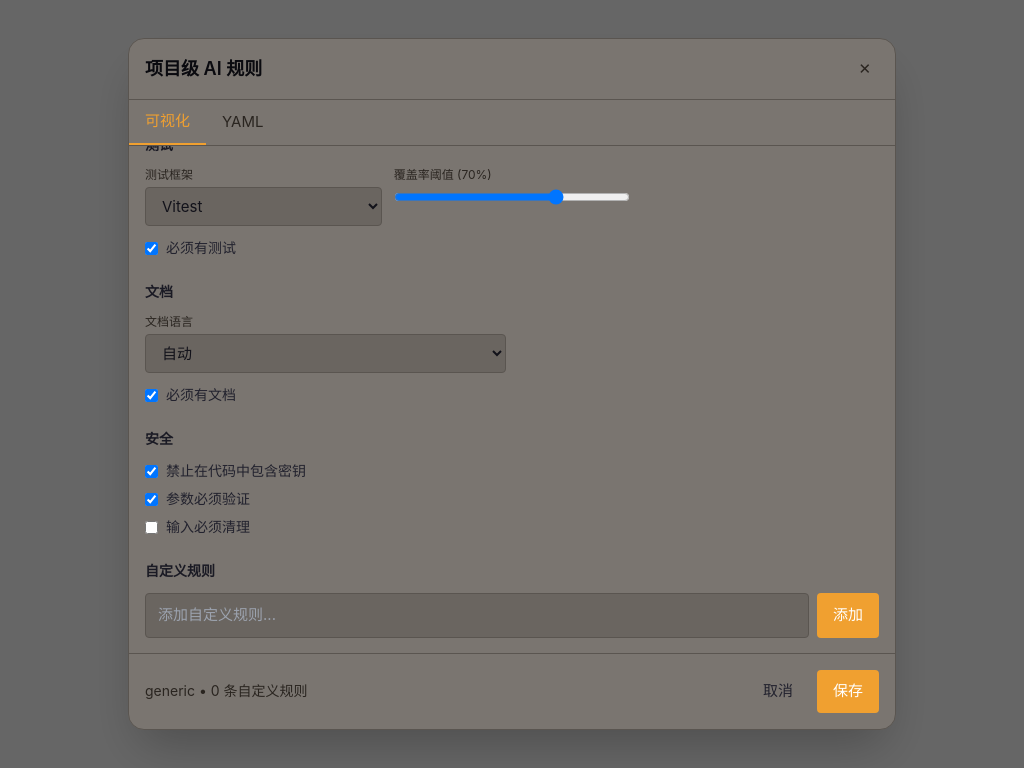
Test: RulesEditor 组件 (Cycle 18 G18-02) › 应该删除自定义规则
The image size is (1024, 768).
(page scrolled)
Type "to delete" into the field with test id "custom-rule-input" at (477, 616), box [145, 593, 809, 638]
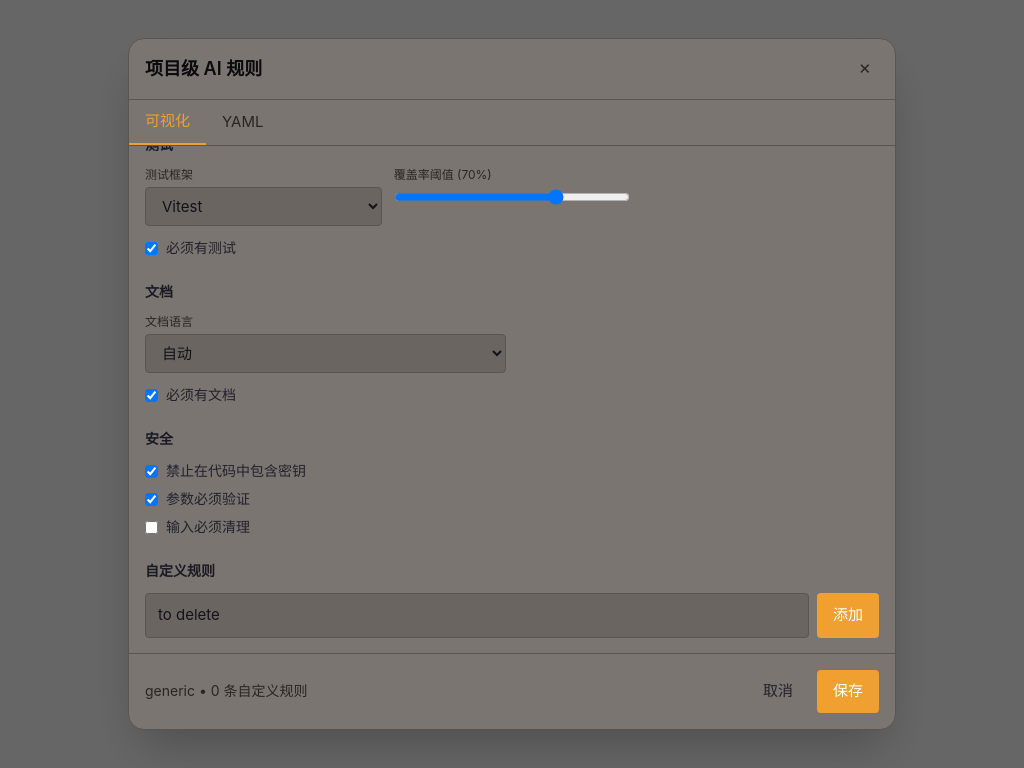
Click the button with test id "custom-rule-add" at (848, 616), box [817, 593, 879, 638]
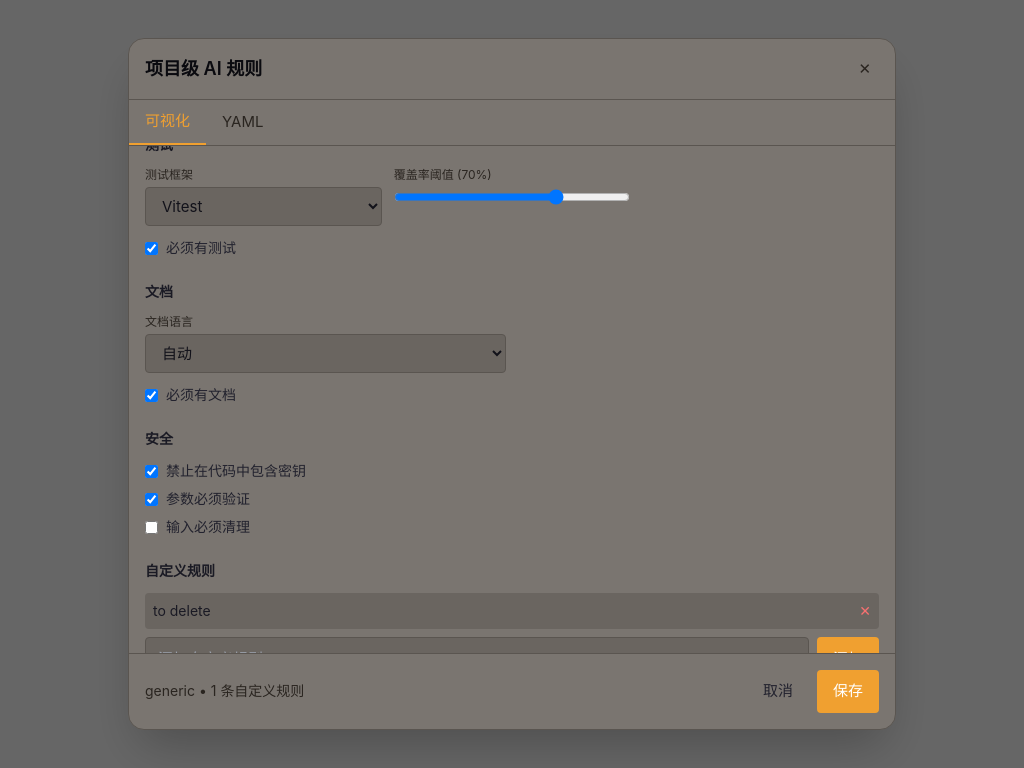
Now the text "to delete" is shown, box [153, 601, 211, 621]
Click the button with test id "custom-rule-remove-0" at (865, 611), box [859, 601, 871, 621]
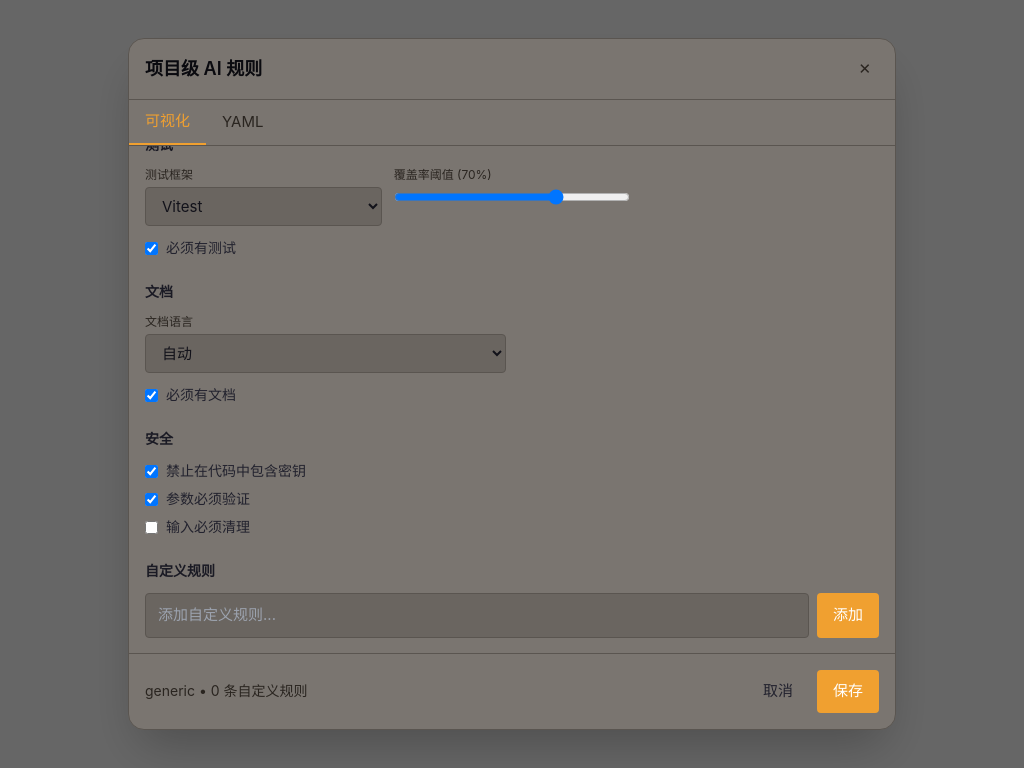
Now the text "to delete" is gone
